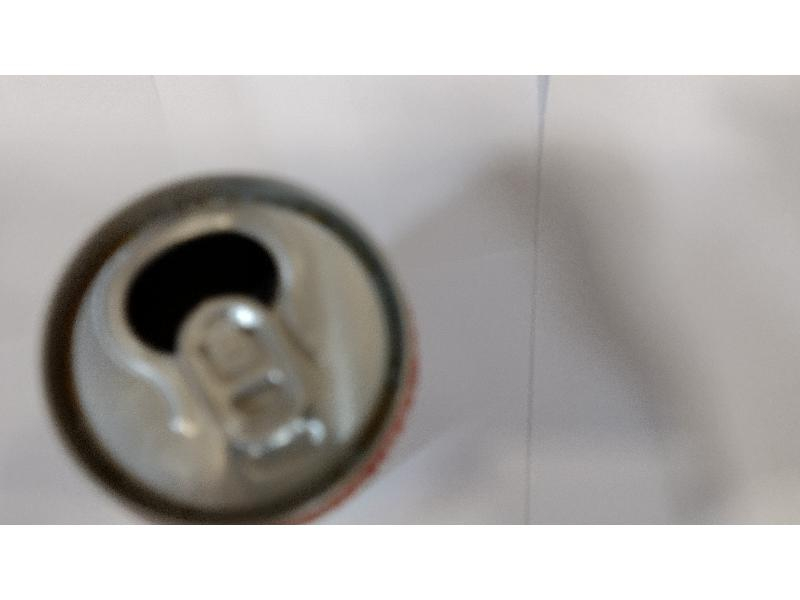can: (37, 171, 403, 524)
